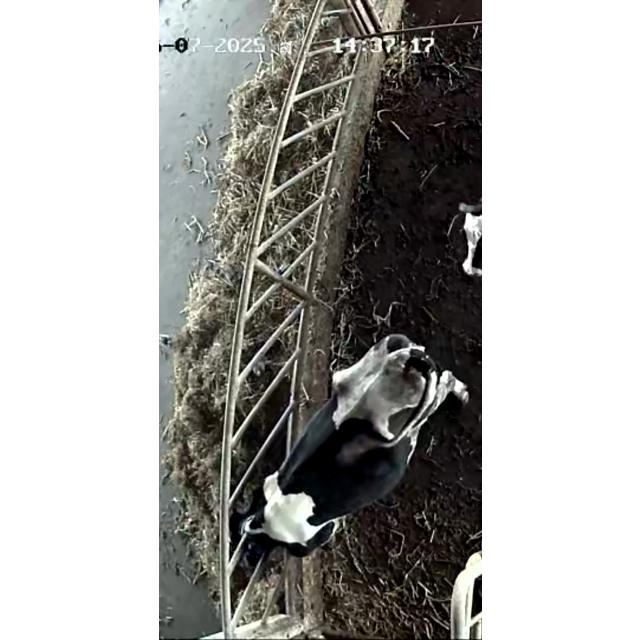eat: (171, 468, 345, 576)
